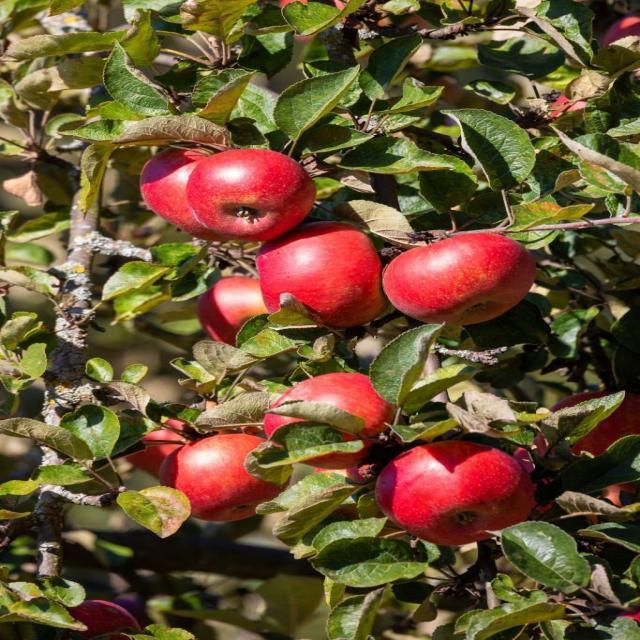Red Apple: (378, 444, 535, 541), (390, 233, 533, 329), (246, 227, 389, 322), (191, 148, 322, 239), (272, 373, 396, 458), (167, 431, 281, 514), (563, 398, 640, 501), (139, 143, 228, 220), (203, 277, 282, 347), (122, 415, 209, 473), (65, 598, 134, 640), (603, 16, 640, 60), (552, 92, 581, 118), (619, 604, 640, 634), (285, 1, 318, 11)
